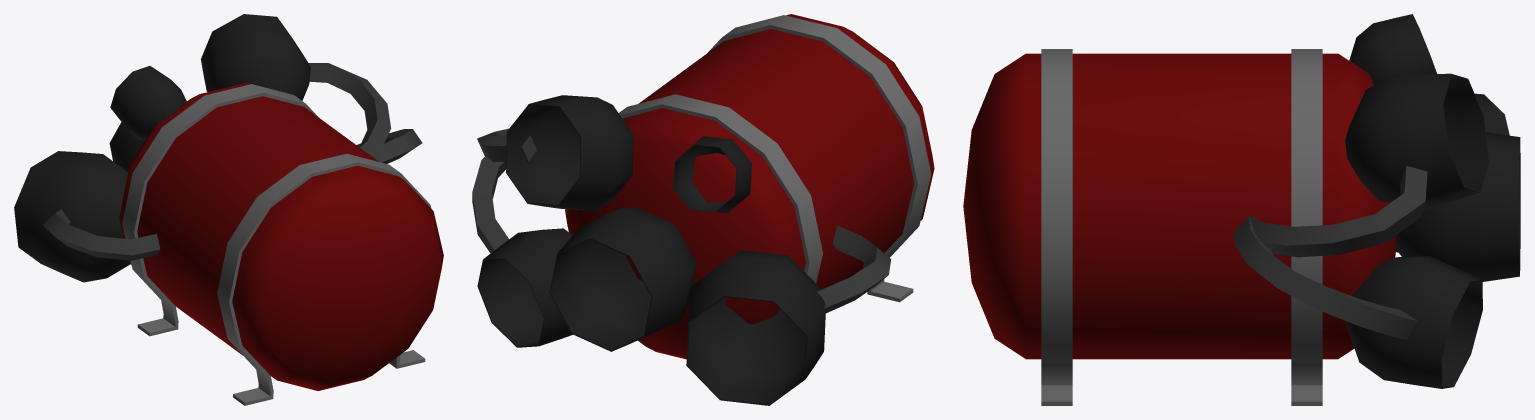
The model's file is jetEngine_v2.fbx.
The picture shows the model from 3 angles, left to right: view 1: azimuth 30°, elevation 25°; view 2: azimuth 150°, elevation 25°; view 3: azimuth 270°, elevation 25°; orthographic projection. The views are drawn at different scales.
Parts seen in each view (by area): view 1: normal2; view 2: normal2; view 3: normal2.
Part boxes in pixels (<box>): normal2: <box>14,14,443,405</box>; normal2: <box>472,14,934,405</box>; normal2: <box>963,14,1520,405</box>.
Size of the model in its own units: 3.46 by 2.23 by 3.57.
